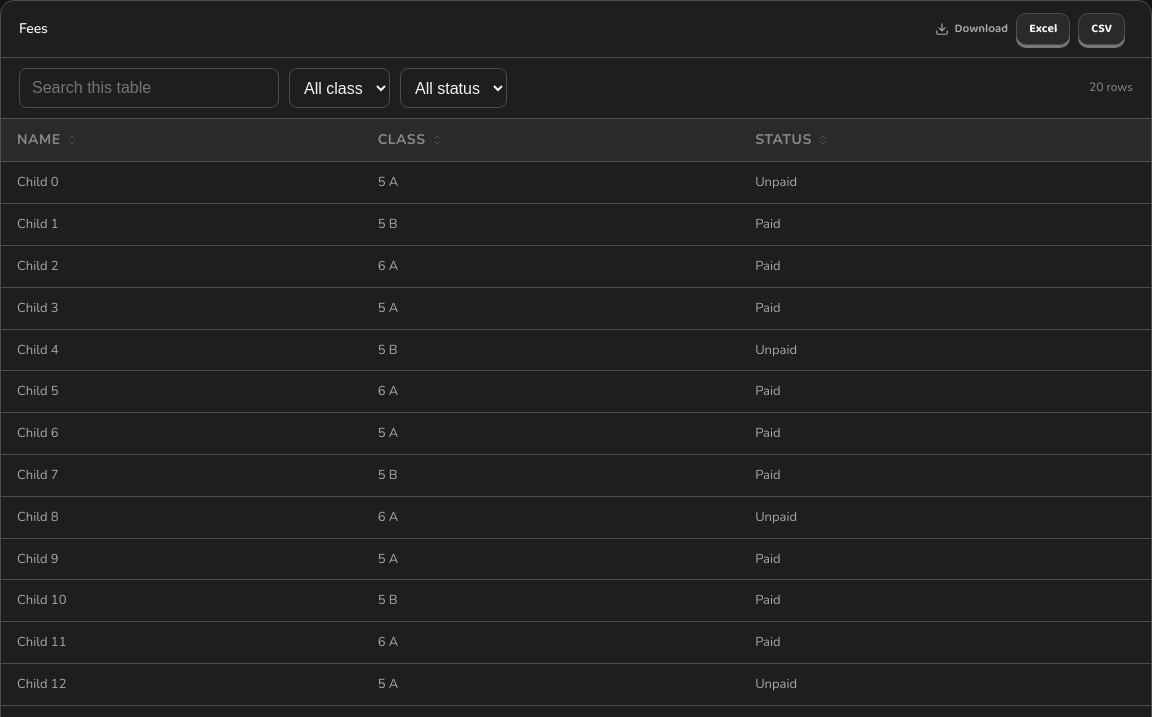
Test: typing searches every column
Step 1. Type "6 a" into the search field with test id "t-search" → (149, 88), box [19,68,279,108]
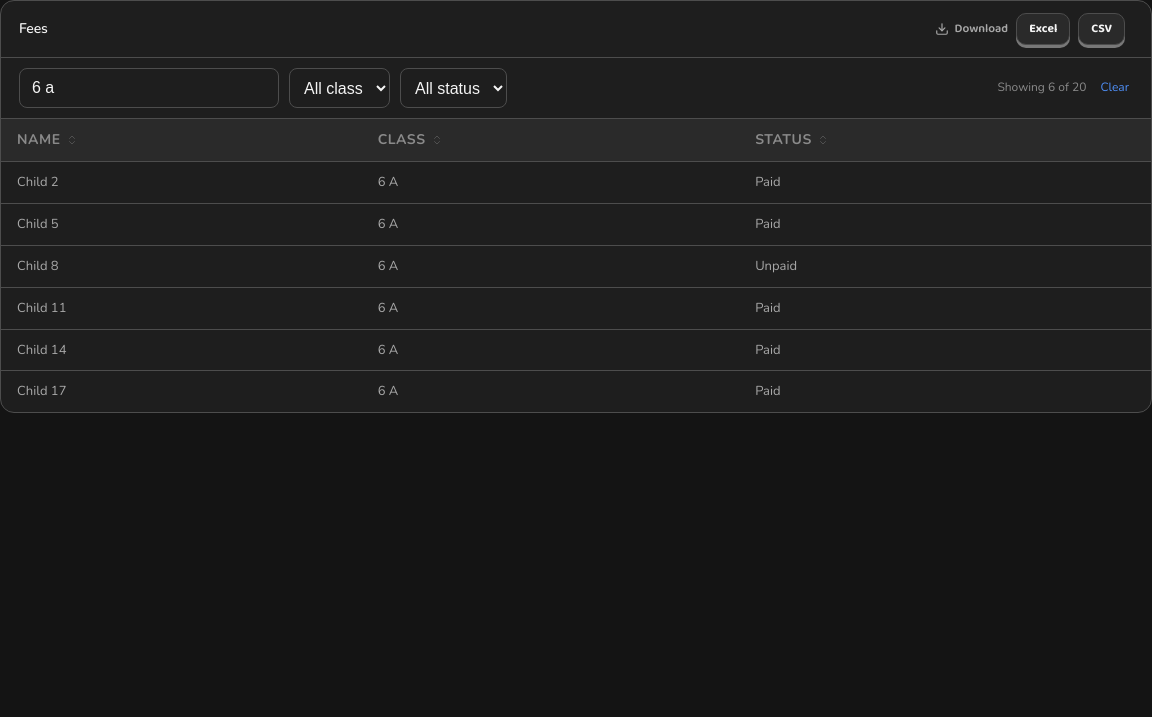
Result: the text with test id "t-filter-count" reads "Showing 6 of 20" at [997,79,1086,95]
